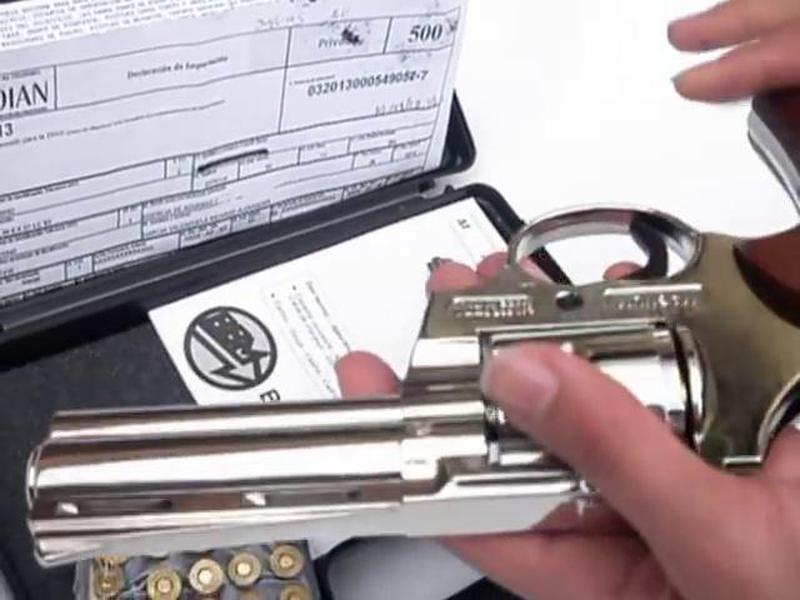Revolver: (36, 182, 800, 546)
